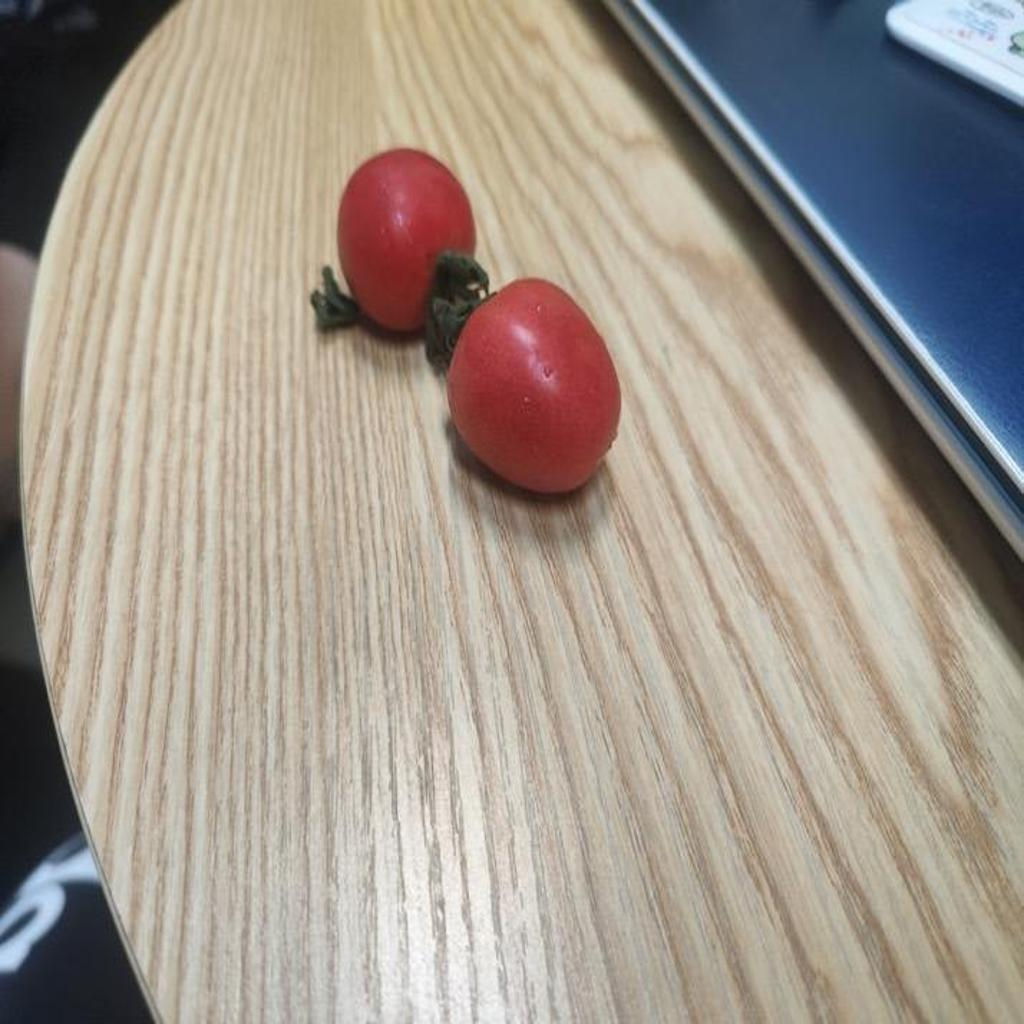tomato: (447, 290, 618, 494), (336, 150, 480, 330)
